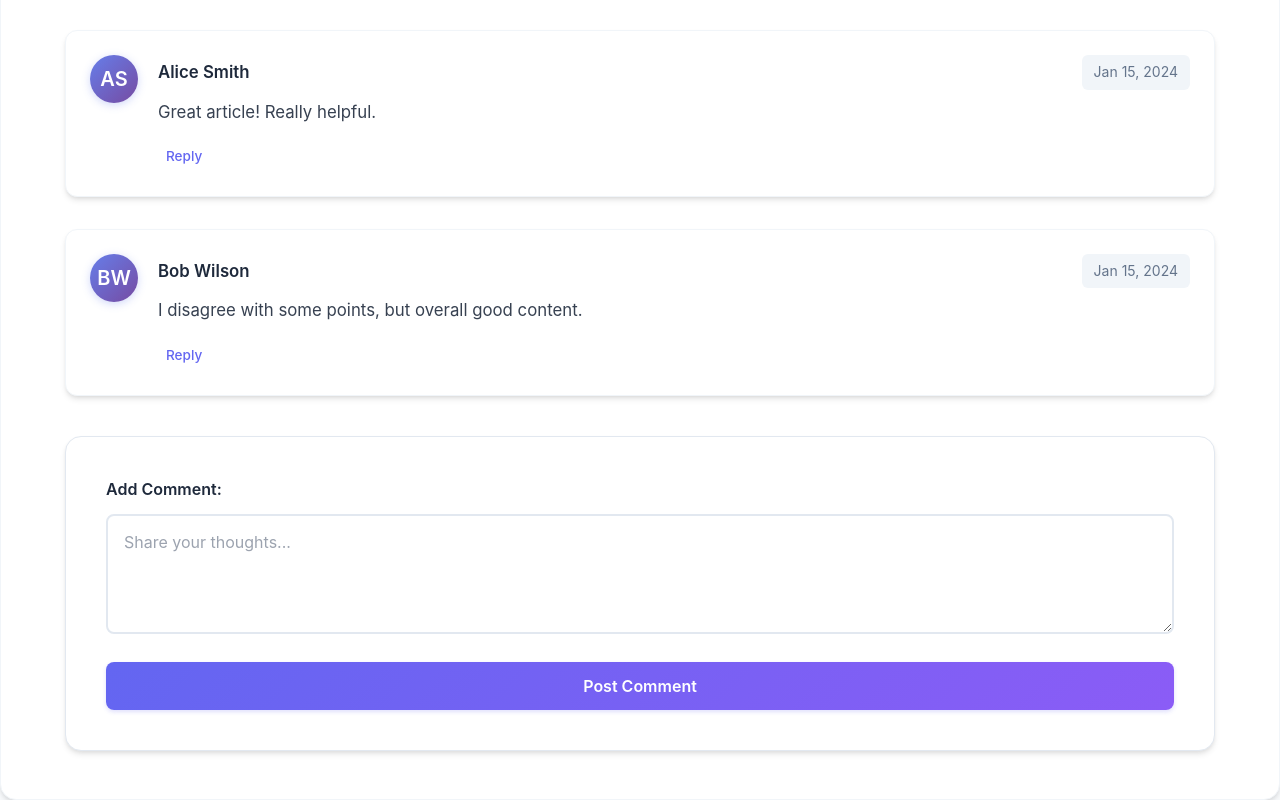
Test: Comments Component - Advanced Tests › prevents submission of empty comments
(page scrolled)
Note: Submit with empty content
Click the button "Post Comment" at (640, 686), box [106, 662, 1174, 710]
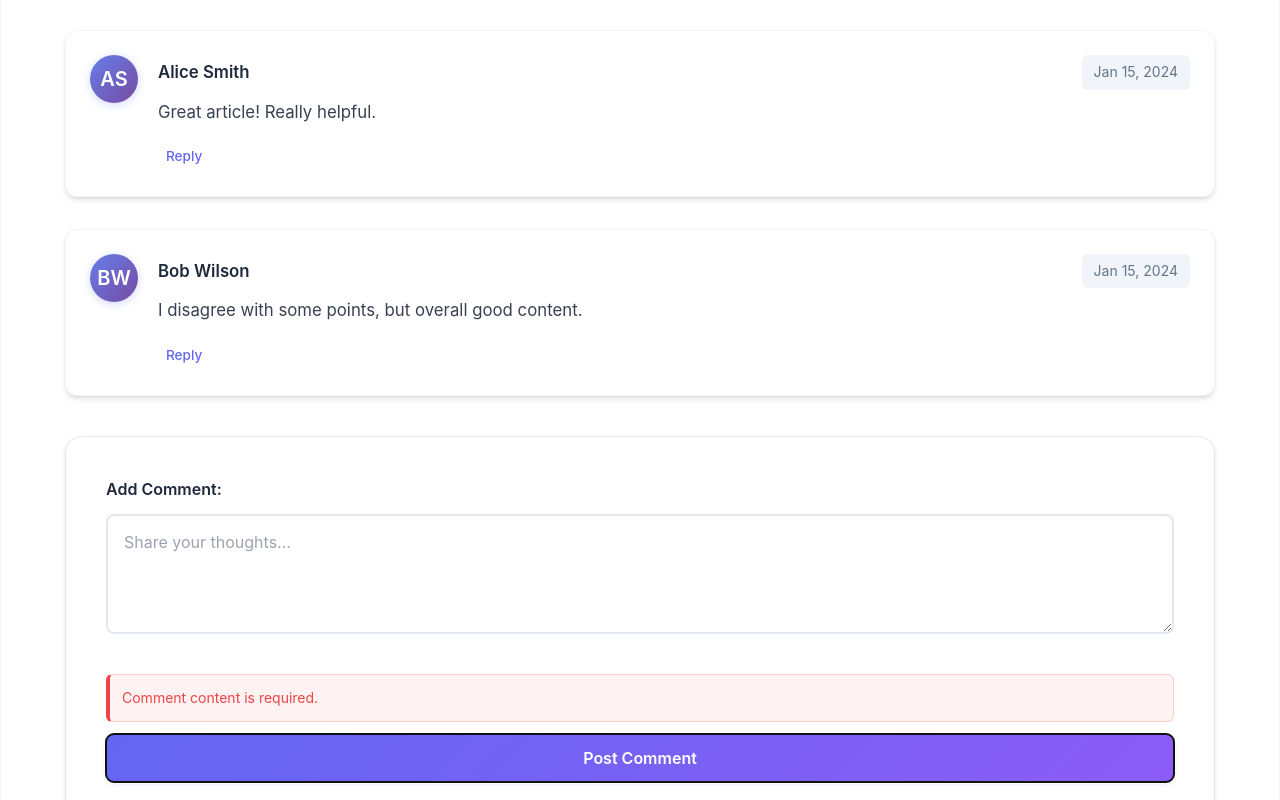
Now the text "Comment content is required." is shown, box [106, 674, 1174, 722]
